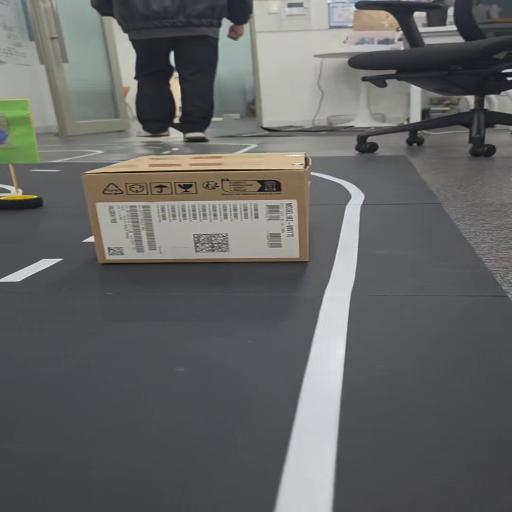Box: (72, 150, 322, 264)
